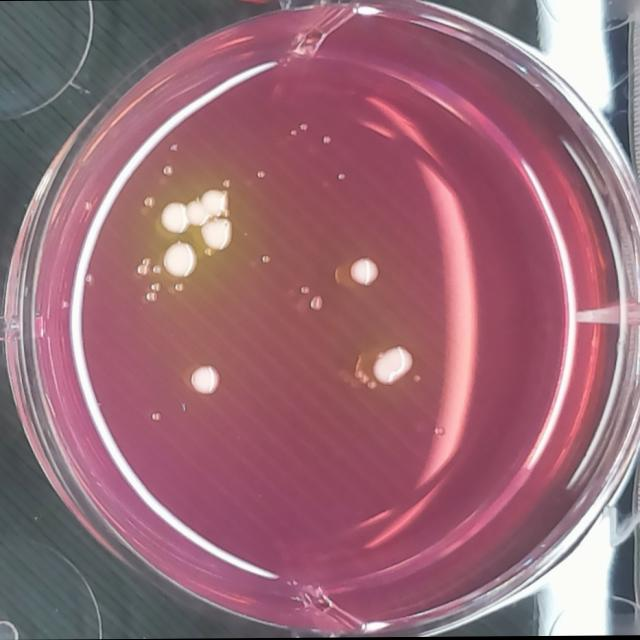StaphyloPositive: (155, 184, 233, 234), (368, 339, 418, 388), (182, 359, 228, 404), (342, 252, 386, 292), (162, 239, 200, 279), (200, 215, 237, 254)
